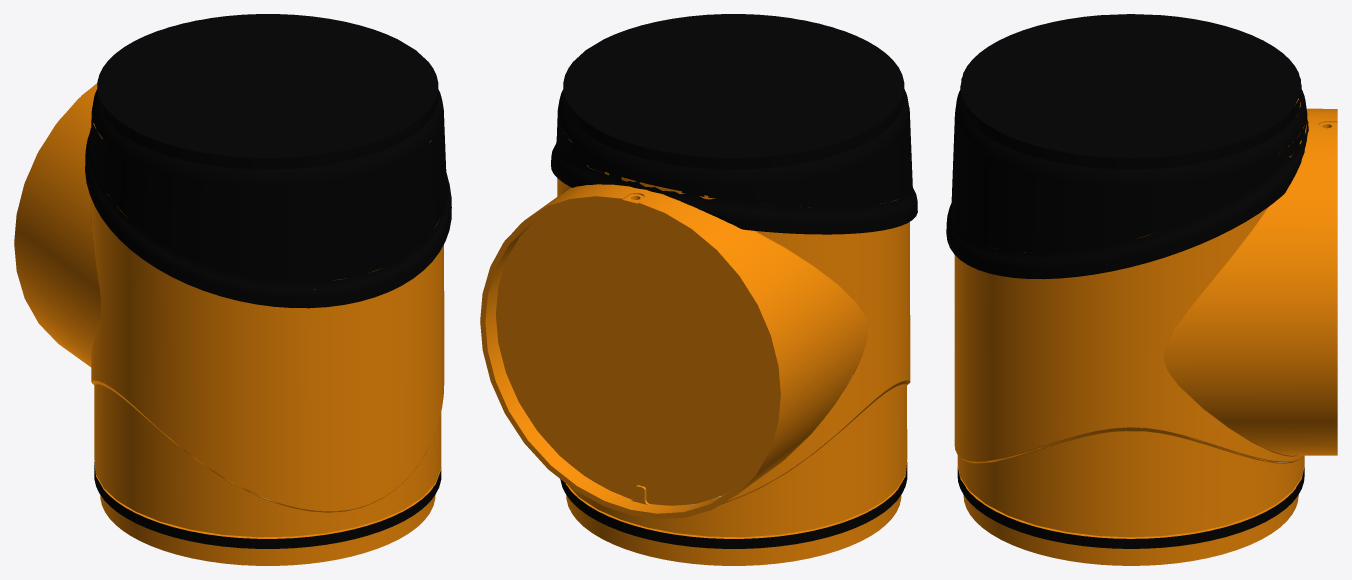
The model's file is shoulder_Link.DAE.
3 views of the same model, side by side, from view 1: azimuth 30°, elevation 25°; view 2: azimuth 150°, elevation 25°; view 3: azimuth 270°, elevation 25° (orthographic).
Visible parts, largest first — view 1: NONE-DC_Shell_ncl1_1, NONE-DC_Shell_ncl1_3, NONE-DC_Shell_ncl1_2, NONE-DC_Shell; view 2: NONE-DC_Shell_ncl1_1, NONE-DC_Shell_ncl1_3, NONE-DC_Shell_ncl1_2, NONE-DC_Shell; view 3: NONE-DC_Shell_ncl1_1, NONE-DC_Shell_ncl1_3, NONE-DC_Shell_ncl1_2, NONE-DC_Shell.
Boxes of the visible parts, x1,y1,x2,y2 form: NONE-DC_Shell_ncl1_1: (14,83,444,538); NONE-DC_Shell_ncl1_3: (85,14,451,308); NONE-DC_Shell_ncl1_2: (100,426,435,565); NONE-DC_Shell: (94,462,441,548); NONE-DC_Shell_ncl1_1: (480,139,910,538); NONE-DC_Shell_ncl1_3: (551,14,917,234); NONE-DC_Shell_ncl1_2: (566,453,901,565); NONE-DC_Shell: (560,462,907,548); NONE-DC_Shell_ncl1_1: (954,98,1337,538); NONE-DC_Shell_ncl1_3: (946,14,1308,279); NONE-DC_Shell_ncl1_2: (963,427,1298,565); NONE-DC_Shell: (957,466,1304,548).
Bounding box in the file's own units: 0.1226 × 0.1307 × 0.1508.
